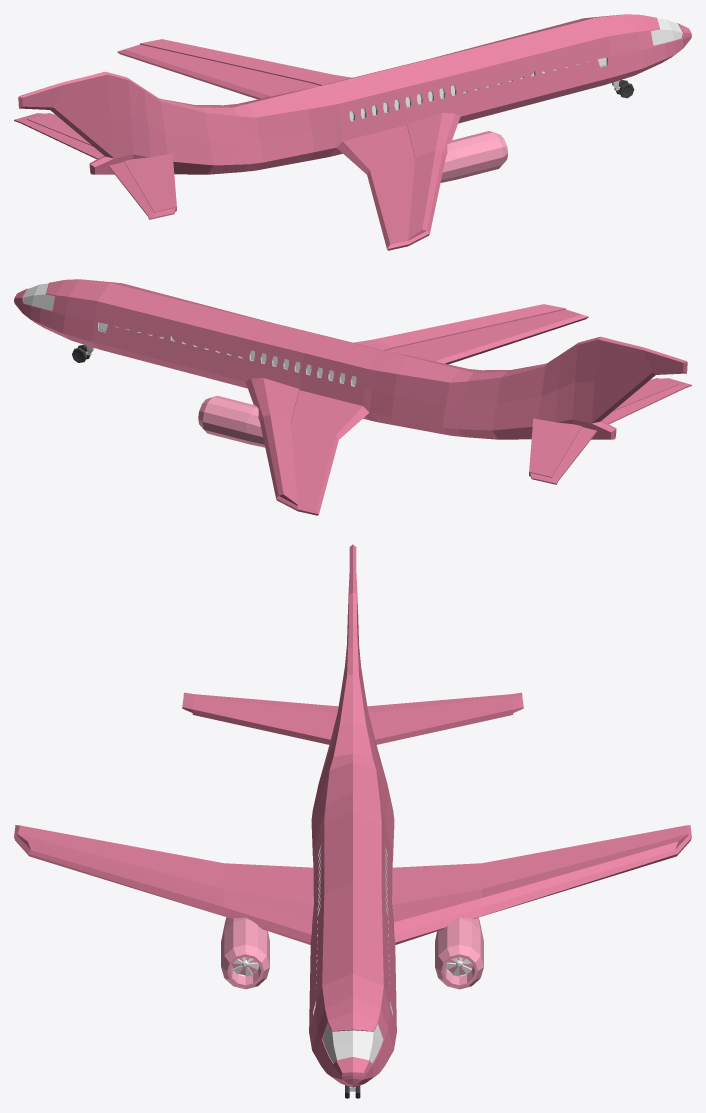
The picture shows the model from 3 angles, top to bottom: view 1: azimuth 30°, elevation 25°; view 2: azimuth 150°, elevation 25°; view 3: azimuth 270°, elevation 25°; orthographic projection. The views are drawn at different scales.
Visible parts, largest first — view 1: Plane.008; view 2: Plane.008; view 3: Plane.008.
Part boxes in pixels (x1,y1,x2,y2): Plane.008: (14,14,691,250); Plane.008: (14,279,691,515); Plane.008: (14,544,691,1098).
Bounding box in the file's own units: 228 × 49.01 × 159.
